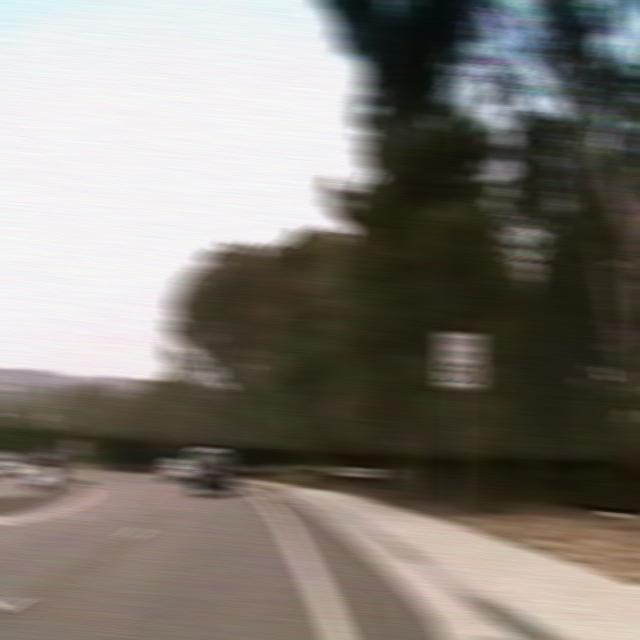speedLimit50: (437, 329, 483, 388)
